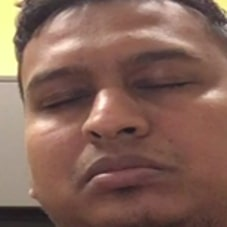drowsy: (24, 46, 212, 192)
